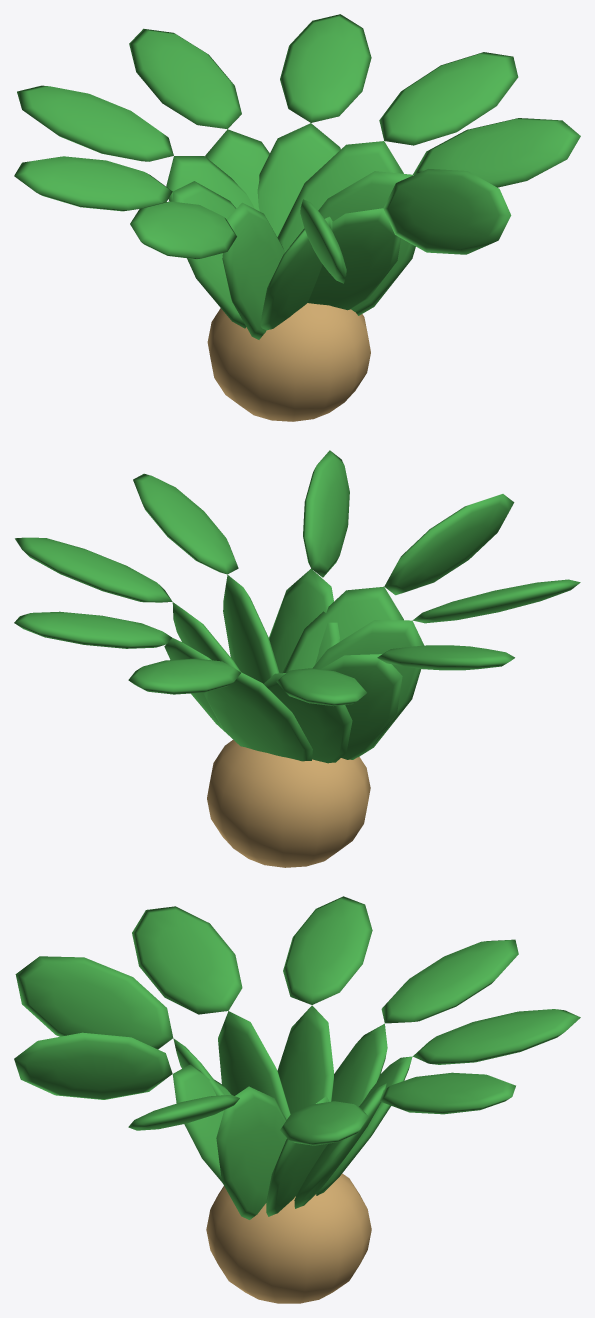
File: root_round.glb
The picture shows the model from 3 angles, top to bottom: view 1: azimuth 30°, elevation 25°; view 2: azimuth 150°, elevation 25°; view 3: azimuth 270°, elevation 25°; orthographic projection.
Visible parts, largest first — view 1: Leaf, Fruit; view 2: Leaf, Fruit; view 3: Leaf, Fruit.
Part boxes in pixels (x1,y1,x2,y2): Leaf: (14, 14, 580, 339); Fruit: (207, 303, 370, 421); Leaf: (14, 450, 580, 763); Fruit: (207, 739, 370, 867); Leaf: (14, 896, 580, 1219); Fruit: (206, 1173, 371, 1303).
Size of the model in its own units: 0.6248 by 0.3606 by 0.6166.
